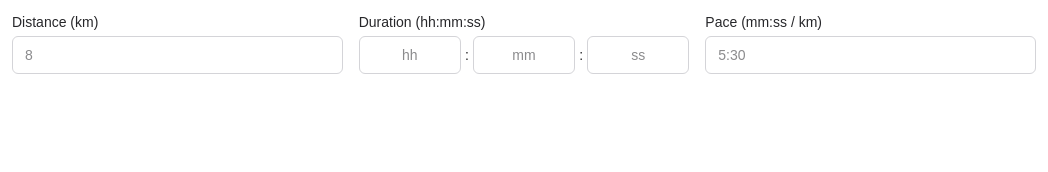
Test: derives distance from duration and pace
Step 1. Type "45" into the field named "Duration (minutes)" → [524, 55], box [473,36,575,74]
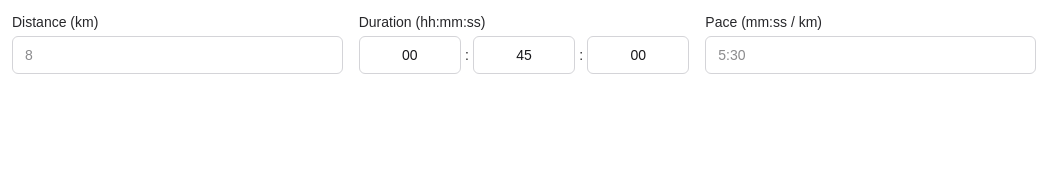
Step 2. Type "5:00" into the field labelled "Pace (mm:ss / km)" → [871, 55], box [705,36,1036,74]
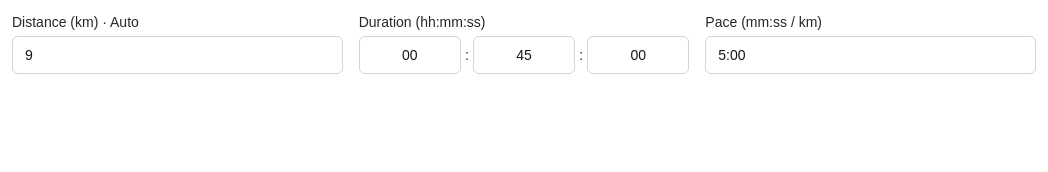
Check: the field labelled "Distance (km) · Auto" holds "9", box [12,36,343,74]
